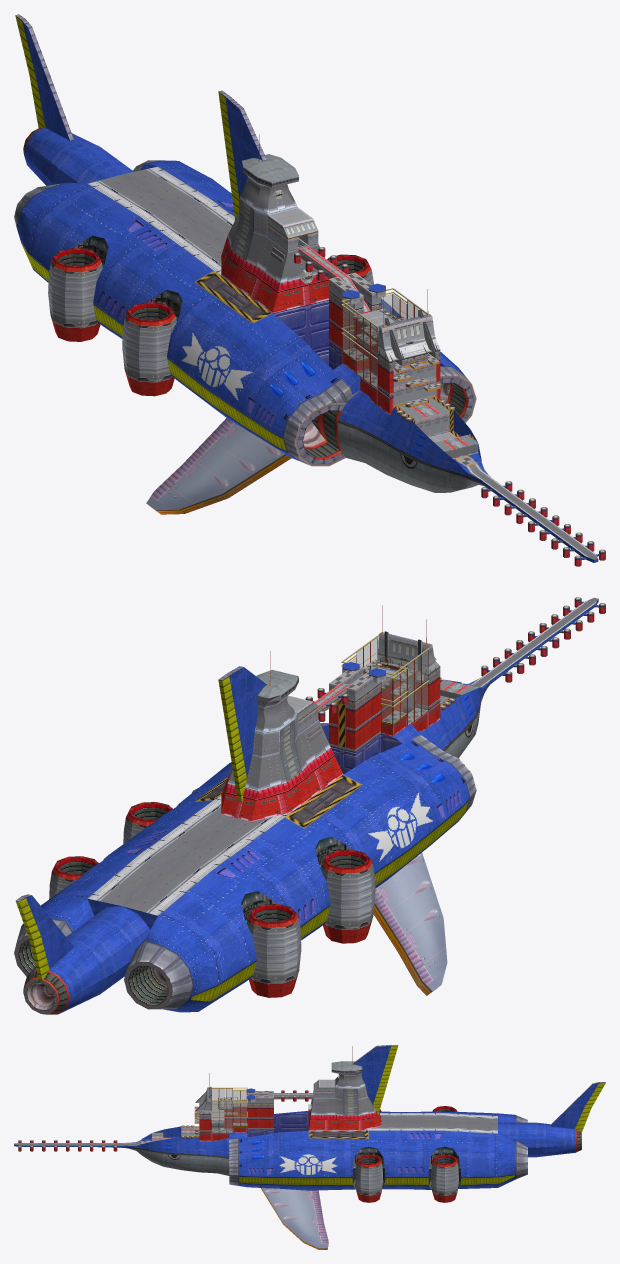
The model's file is Big Ship.fbx.
The picture shows the model from 3 angles, top to bottom: view 1: azimuth 30°, elevation 25°; view 2: azimuth 150°, elevation 25°; view 3: azimuth 270°, elevation 25°; orthographic projection. The views are drawn at different scales.
Visible parts, largest first — view 1: Big Ship; view 2: Big Ship; view 3: Big Ship.
Boxes of the visible parts, left/top/right/bottom form: Big Ship: left=14, top=14, right=605, bottom=566; Big Ship: left=14, top=597, right=605, bottom=1014; Big Ship: left=14, top=1045, right=605, bottom=1249.
Size of the model in its own units: 283 by 316 by 990.
43 materials, 41 textured.
